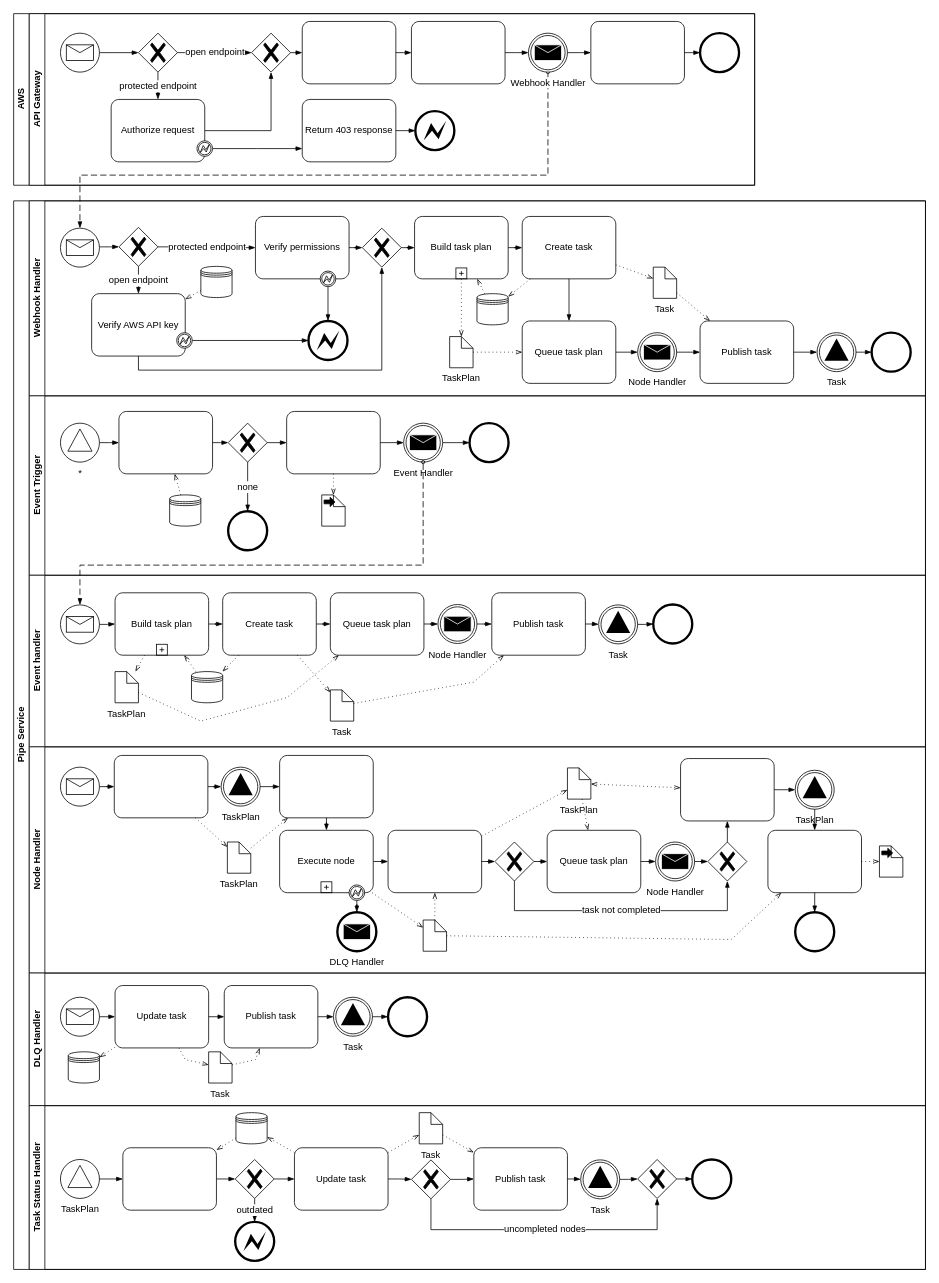
Some shapes in this 939 by 1283 pixel diagram are drawn without their labels. The shapes that lost their labels are listed below. From the top down, each one's centre as x and y in pixels, then its label:
At (348,52): "Receive webhook request".
At (458,52): "Queue webhook request".
At (637,52): "Return 202 response".
At (165,442): "Find event subscribers".
At (333,442): "Queue task".
At (333,510): "EventTask".
At (160,786): "Publish node started event".
At (326,786): "Extract node input".
At (727,789): "Publish node completed event".
At (434,861): "Update task plan".
At (814,861): "Put S3 object".
At (169,1178): "Check timestamp (DynamoDB update condition)".
